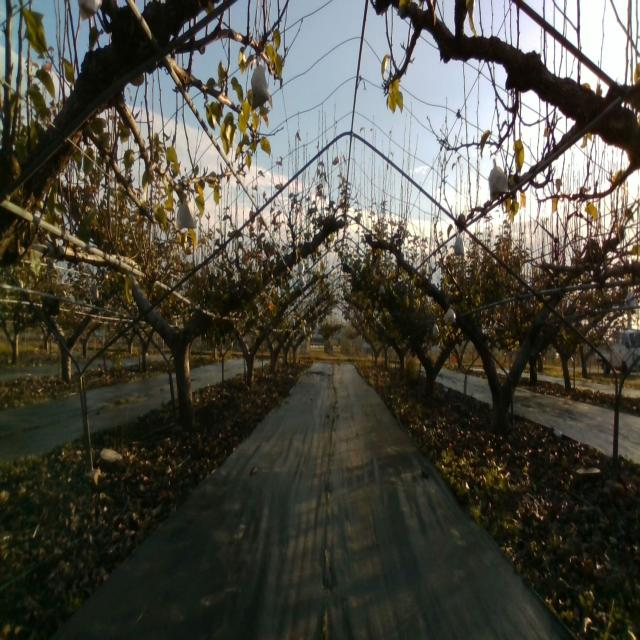pearbags: (250, 63, 270, 110), (488, 157, 508, 199), (174, 198, 196, 230), (453, 233, 466, 257), (444, 305, 456, 325)
